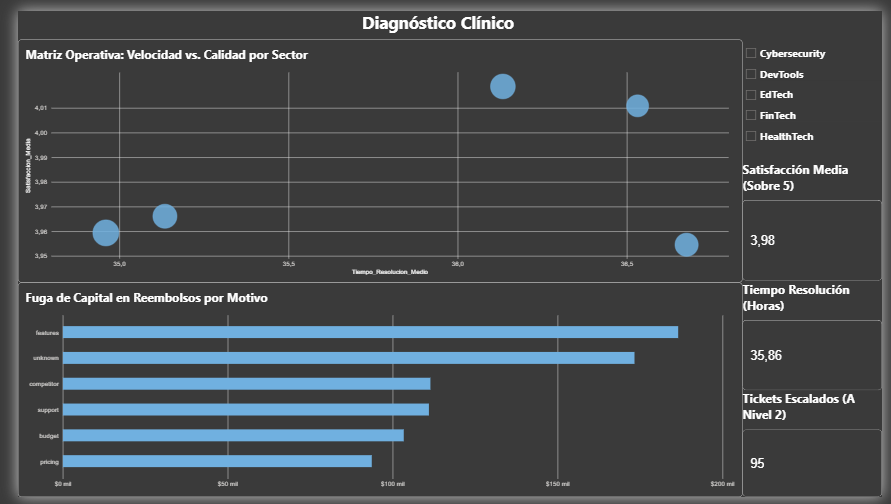

This screenshot's page, from the dashboard's own definition file:
{"tool":"powerbi","page":{"name":"Diagnóstico Clínico","canvas":[1920,1080],"ordinal":1},"visuals":[{"type":"scatterChart","title":"Matriz Operativa: Velocidad vs. Calidad por Sector","fields":{"Y":["_Medidas.Satisfaccion_Media"],"X":["_Medidas.Tiempo_Resolucion_Medio"],"Category":["ravenstack_accounts.industry"],"Size":["_Medidas.Volumen_Fugas"]},"box":[0,63.3,1610,540],"z":0},{"type":"clusteredBarChart","title":"Fuga de Capital en Reembolsos por Motivo","fields":{"Category":["ravenstack_churn_events.reason_code"],"Y":["_Medidas.Reembolsos_Fuga"]},"box":[0,603.3,1610,476.7],"z":1},{"type":"slicer","fields":{"Values":["ravenstack_accounts.industry"]},"box":[1610,70,310,263.3],"z":2},{"type":"cardVisual","title":"Satisfacción Media (Sobre 5)","fields":{"Data":["_Medidas.Satisfaccion_Media"]},"box":[1610,333.3,310,266.7],"z":3},{"type":"cardVisual","title":"Tiempo Resolución (Horas)","fields":{"Data":["_Medidas.Tiempo_Resolucion_Medio"]},"box":[1610,600,310,243.3],"z":4},{"type":"cardVisual","title":"Tickets Escalados (A Nivel 2)","fields":{"Data":["_Medidas.Tickets_Escalados"]},"box":[1610,843.3,310,236.7],"z":5},{"type":"textbox","box":[100,0,1666.7,70],"z":6}]}

Visuals, with their boxes in screenshot pixels (x1, y1, x2, y2), scaled from the page's 1920x1080 canvas onto the 891x504 screenshot:
"Matriz Operativa: Velocidad vs. Calidad por Sector" scatterChart: box(0, 30, 747, 282)
"Fuga de Capital en Reembolsos por Motivo" clusteredBarChart: box(0, 282, 747, 503)
slicer - ravenstack_accounts.industry: box(747, 33, 890, 156)
"Satisfacción Media (Sobre 5)" cardVisual: box(747, 156, 890, 280)
"Tiempo Resolución (Horas)" cardVisual: box(747, 280, 890, 394)
"Tickets Escalados (A Nivel 2)" cardVisual: box(747, 394, 890, 503)
textbox: box(46, 0, 820, 33)
